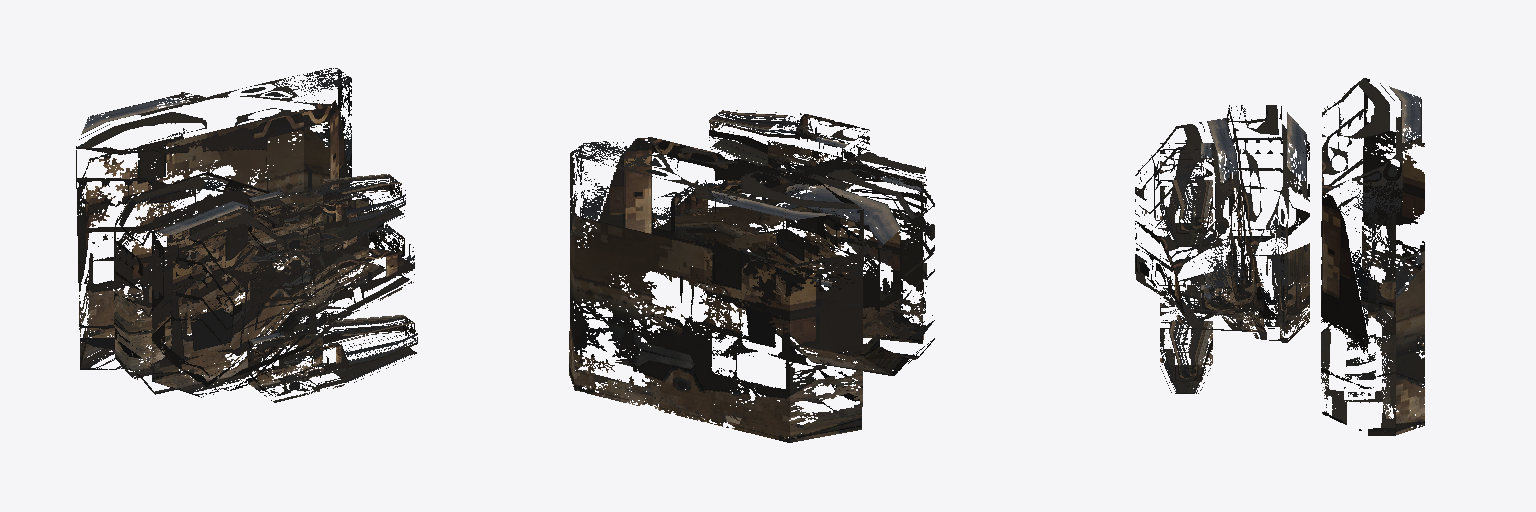
3 views of the same model, side by side, from view 1: azimuth 30°, elevation 25°; view 2: azimuth 150°, elevation 25°; view 3: azimuth 270°, elevation 25° (orthographic).
Parts seen in each view (by area): view 1: mtl_veh_t6_drone_tank; view 2: mtl_veh_t6_drone_tank; view 3: mtl_veh_t6_drone_tank.
Part boxes in pixels (left/top/right/bottom): mtl_veh_t6_drone_tank: left=76, top=68, right=417, bottom=402; mtl_veh_t6_drone_tank: left=569, top=110, right=934, bottom=442; mtl_veh_t6_drone_tank: left=1135, top=78, right=1424, bottom=435.
Bounding box in the file's own units: 101 × 76.27 × 90.28.
1 materials, 1 textured.